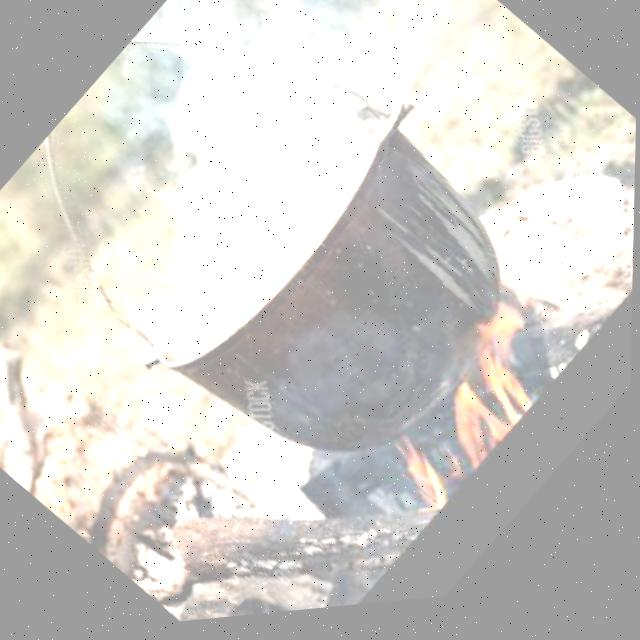Fire: (361, 292, 603, 552)
Smoke: (43, 0, 456, 296)
